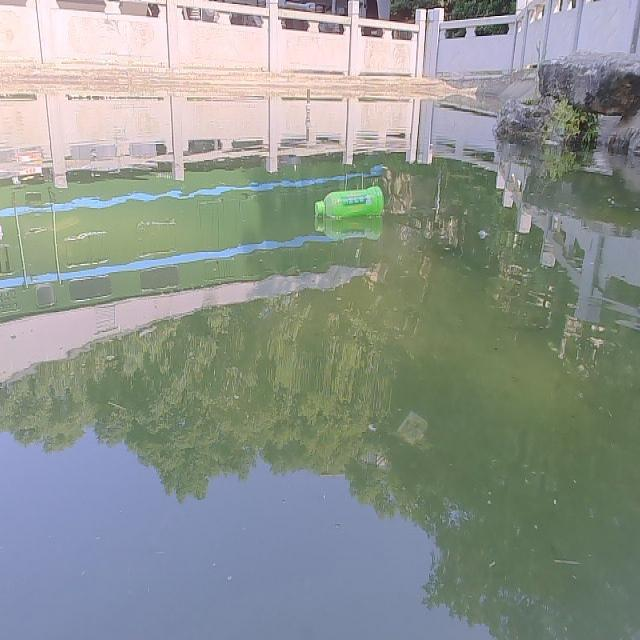Bottle: (311, 182, 386, 218)
